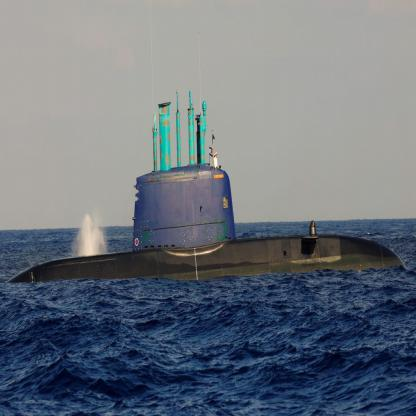Submarine: (6, 90, 408, 283)
